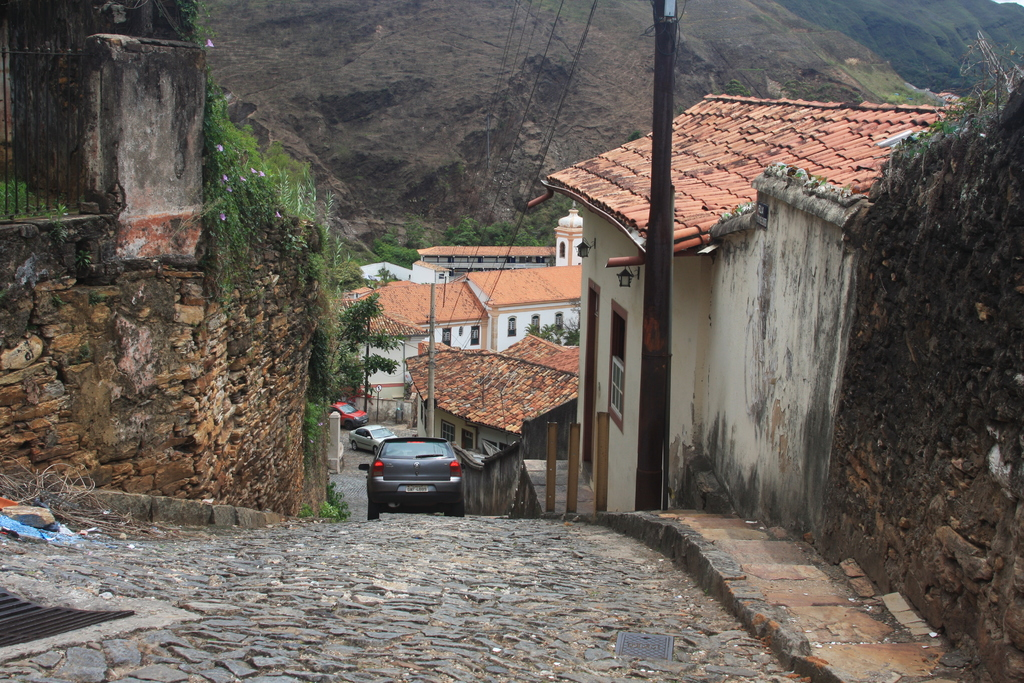Car: (360, 436, 465, 515), (346, 424, 398, 455), (330, 398, 364, 424)
